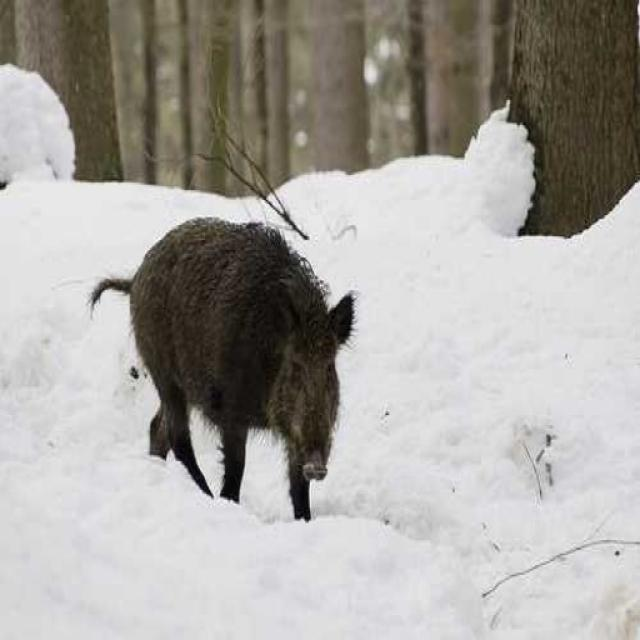pig: (36, 172, 354, 516)
